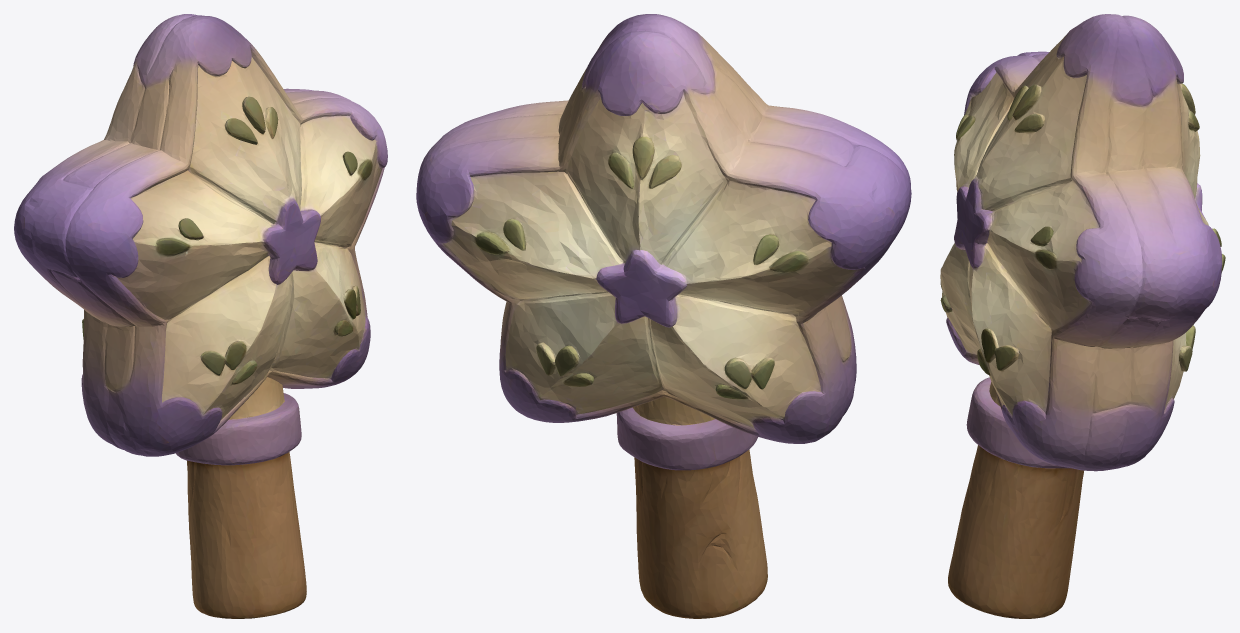
File: item_starlantern.glb
3 views of the same model, side by side, from view 1: azimuth 30°, elevation 25°; view 2: azimuth 150°, elevation 25°; view 3: azimuth 270°, elevation 25° (orthographic). The views are drawn at different scales.
Visible parts, largest first — view 1: geometry_0; view 2: geometry_0; view 3: geometry_0.
Part boxes in pixels (x1,y1,x2,y2): geometry_0: (14, 14, 387, 618); geometry_0: (416, 14, 911, 618); geometry_0: (940, 14, 1225, 618).
Size of the model in its own units: 0.6467 by 0.8927 by 0.3964.
1 material, 1 textured.
